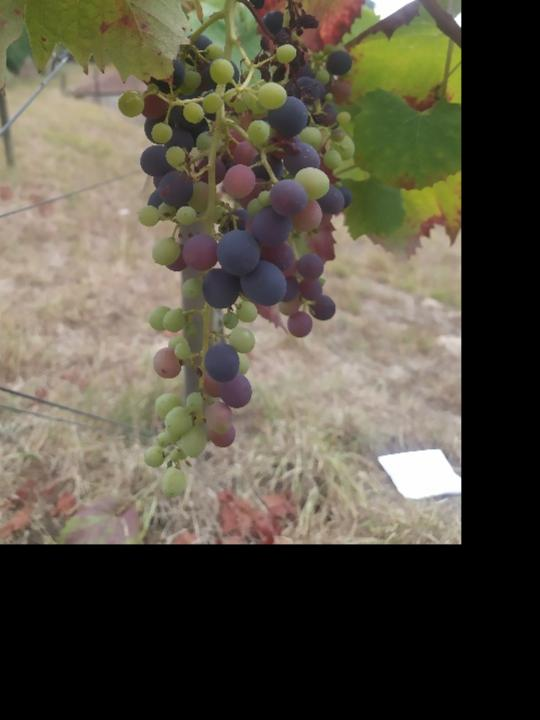grape: (116, 32, 355, 503), (242, 0, 331, 82)
